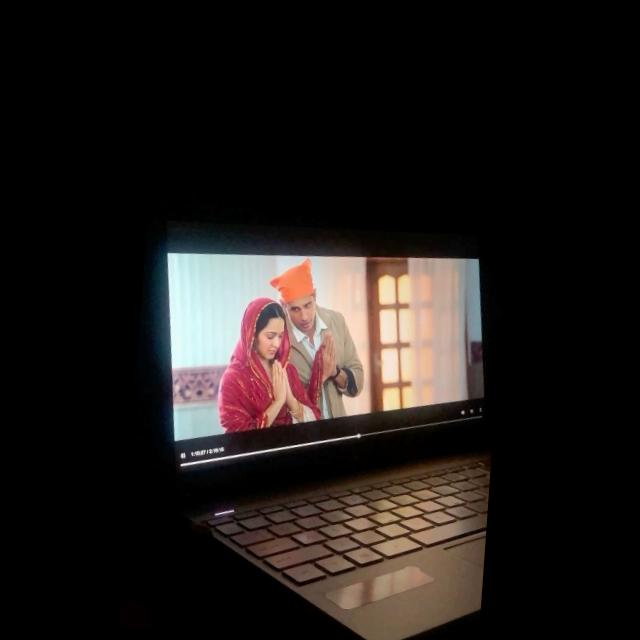laptop: (153, 226, 492, 640)
